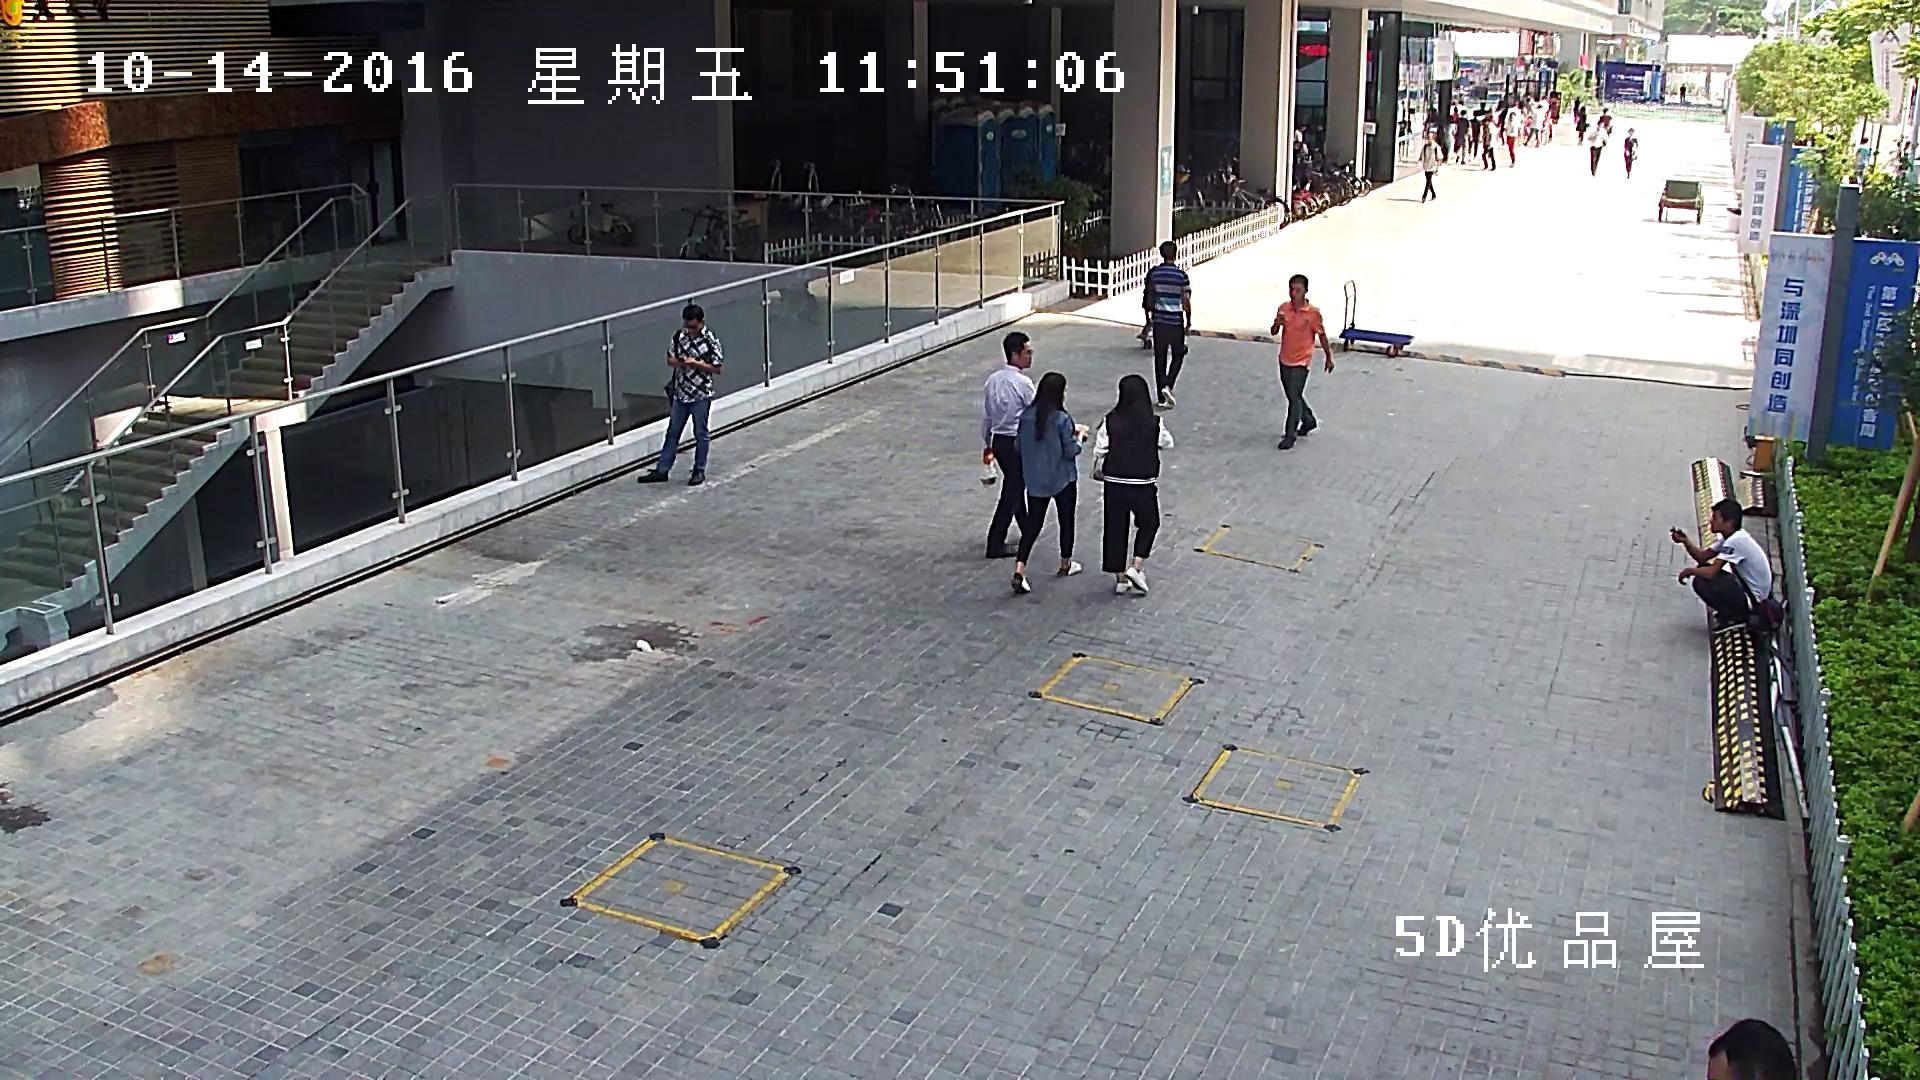person: (1093, 375, 1176, 594), (1010, 371, 1090, 594), (1669, 498, 1783, 634), (636, 303, 720, 485), (981, 329, 1040, 557), (1271, 273, 1333, 447), (1143, 241, 1190, 407), (1420, 129, 1442, 201), (1425, 107, 1447, 163), (1589, 123, 1608, 175), (1480, 118, 1498, 169), (1524, 103, 1545, 146), (1453, 108, 1469, 164), (1504, 113, 1518, 167), (1623, 127, 1637, 176), (1575, 105, 1589, 146), (1294, 125, 1308, 161), (1471, 107, 1482, 156), (1857, 135, 1870, 170), (1600, 107, 1612, 137), (1493, 99, 1504, 124), (1572, 95, 1582, 119), (1680, 79, 1686, 105)
